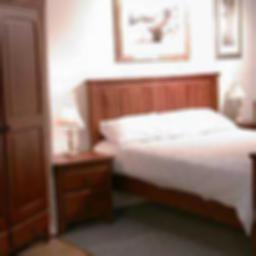Armario: (0, 0, 49, 254)
